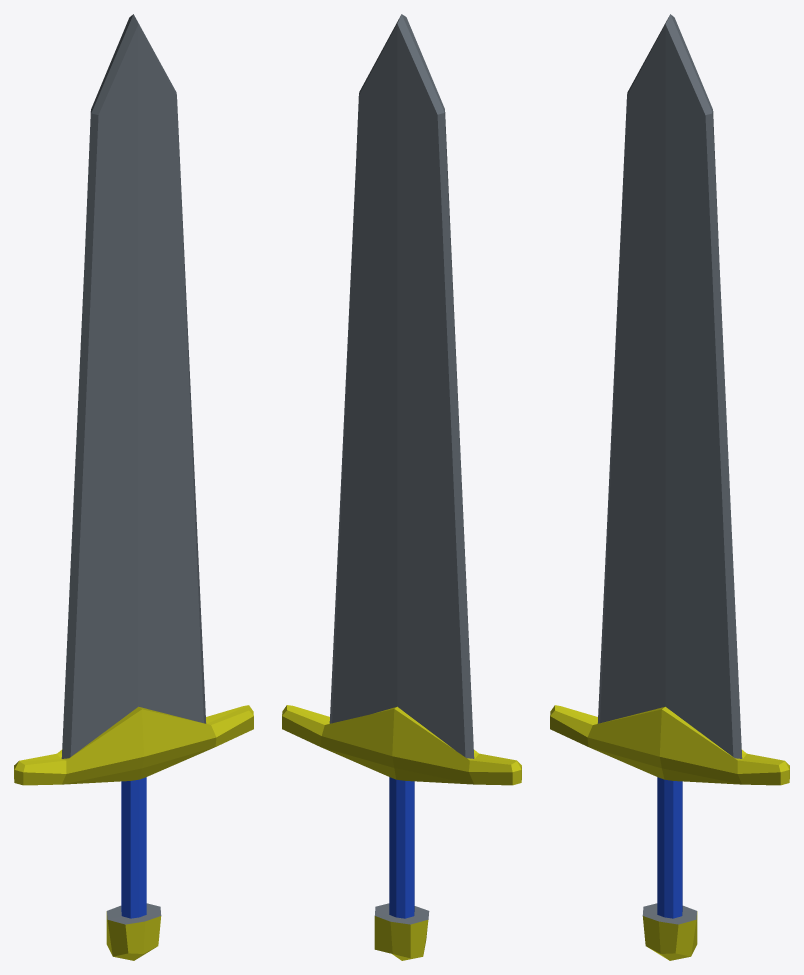
Rendered from Sword.glb.
The picture shows the model from 3 angles, left to right: view 1: azimuth 30°, elevation 25°; view 2: azimuth 150°, elevation 25°; view 3: azimuth 330°, elevation 25°; orthographic projection.
Parts seen in each view (by area): view 1: Sword; view 2: Sword; view 3: Sword.
Boxes of the visible parts, x1,y1,x2,y2 form: Sword: [14, 14, 253, 960]; Sword: [282, 14, 521, 960]; Sword: [550, 14, 789, 960].
Size of the model in its own units: 0.381 by 1.44 by 0.0622.
2 materials, 2 textured.
